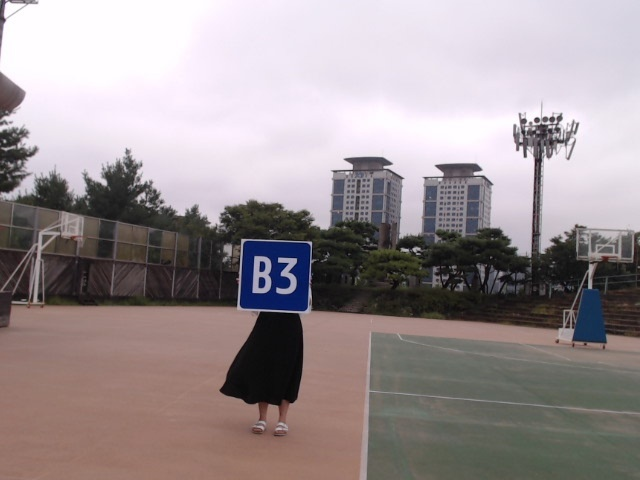delivery_b3: (239, 238, 311, 310)
